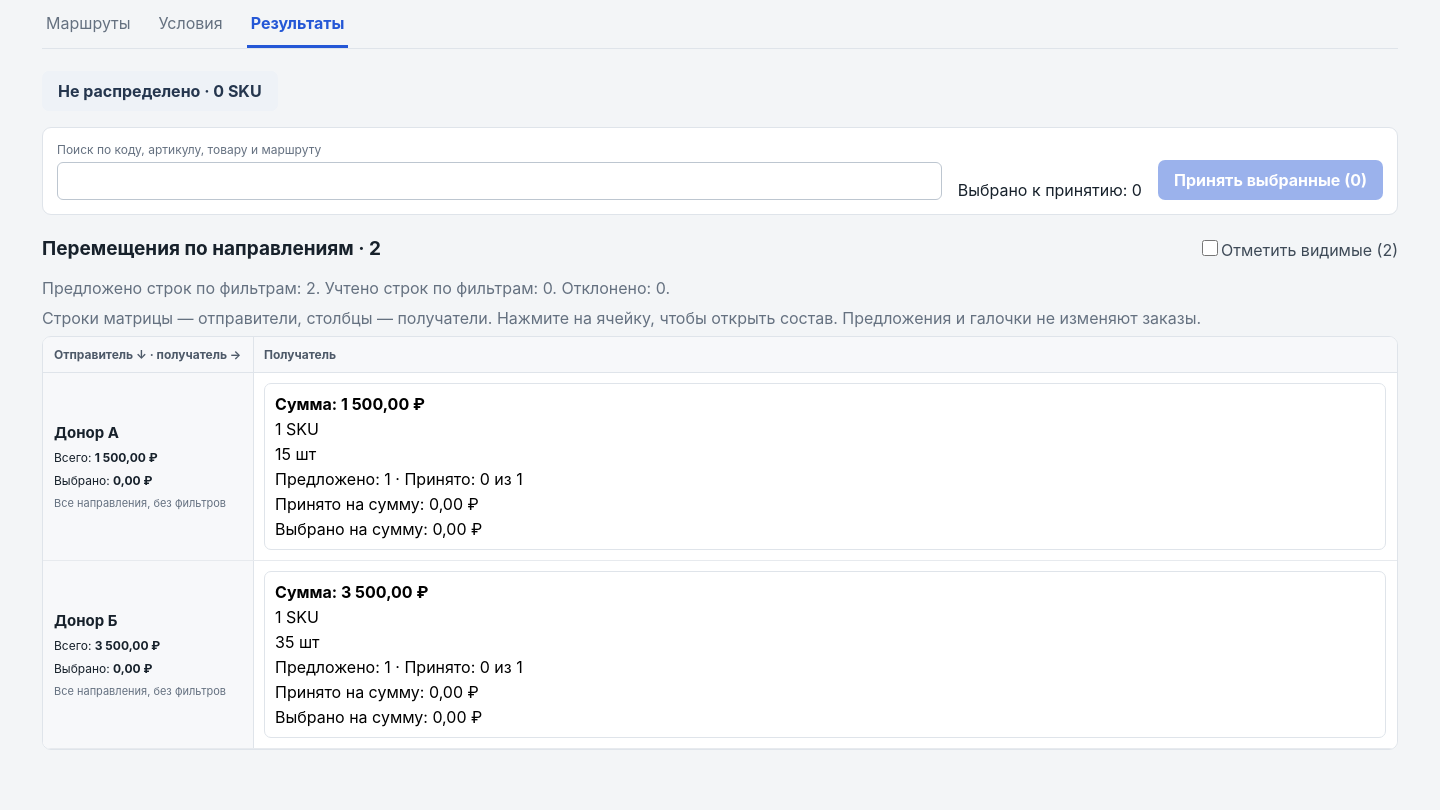
Scenario: shows global and route amounts, keeps selection separate from rejection and updates the accepted amount
The width and height of the screenshot is (1440, 810).
(page scrolled)
Click the button with aria-label "Открыть перемещение Донор А → Получатель".
click(825, 466)  # box [264,383,1386,550]
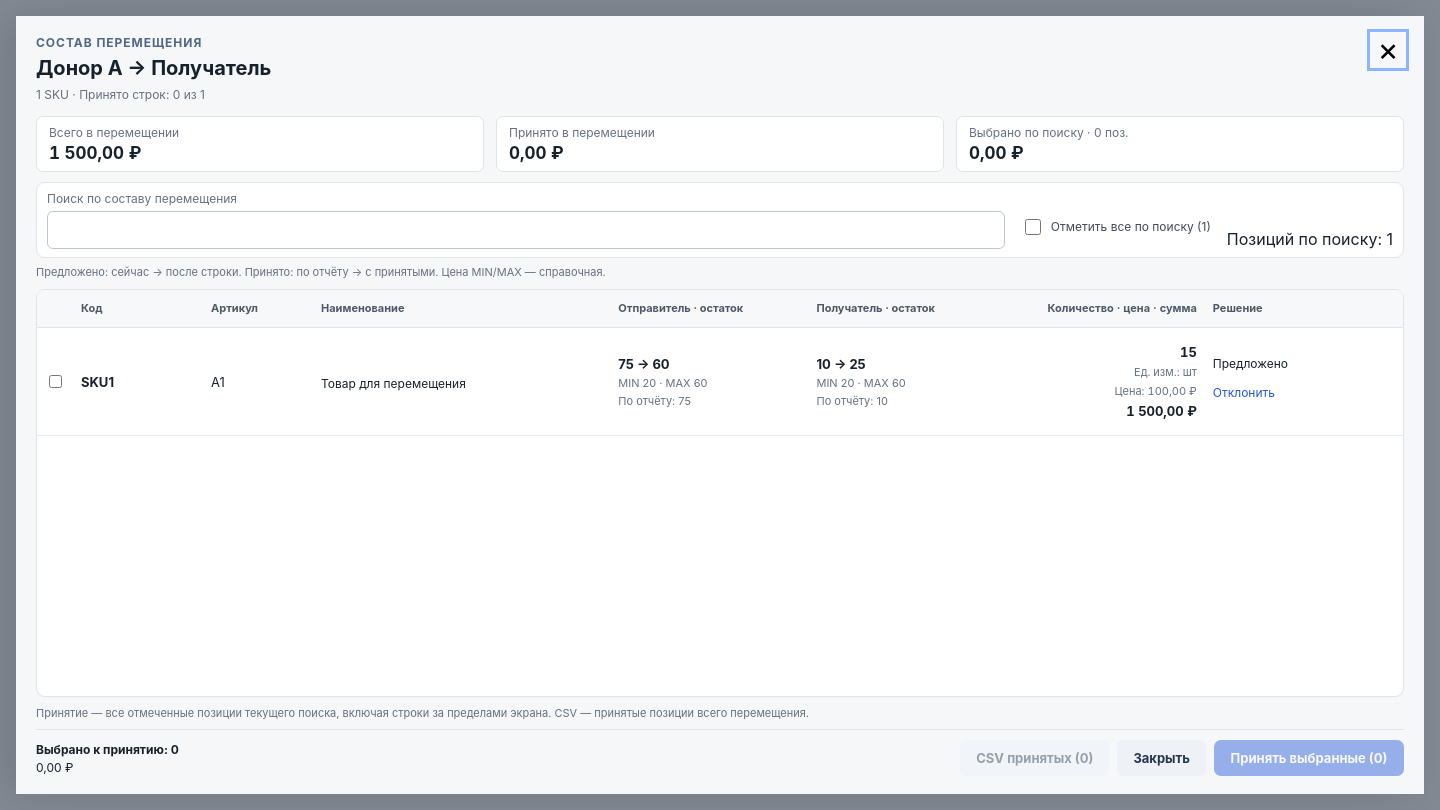
Now the element named "Сумма перемещения" shows "1 500,00", box [49,143,141,163]
Click the checkbox named "Выбрать перемещение SKU1".
click(56, 382)  # box [49,375,62,388]
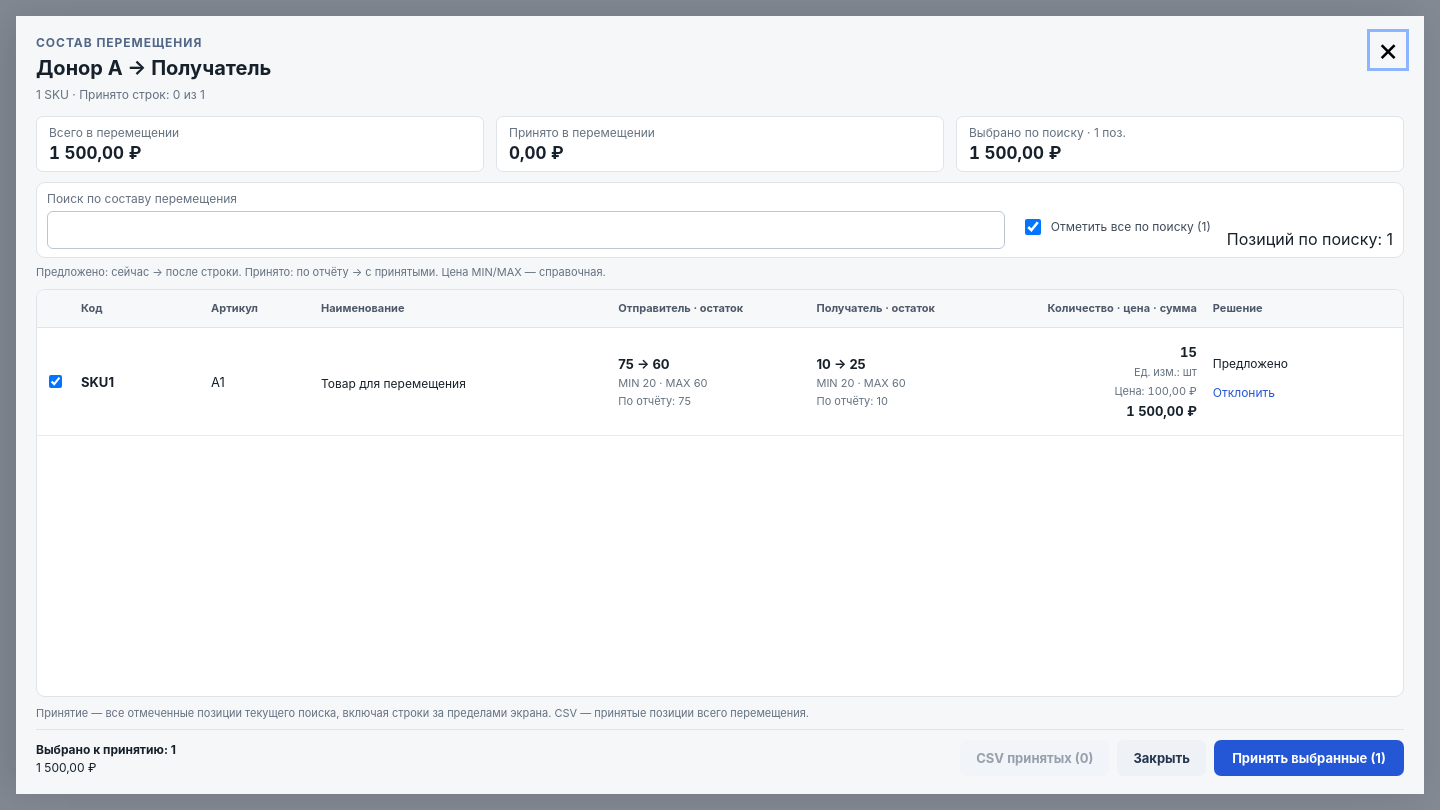
Click the button with aria-label "Принять выбранные в перемещении (1)".
click(1309, 758)  # box [1214,740,1404,776]
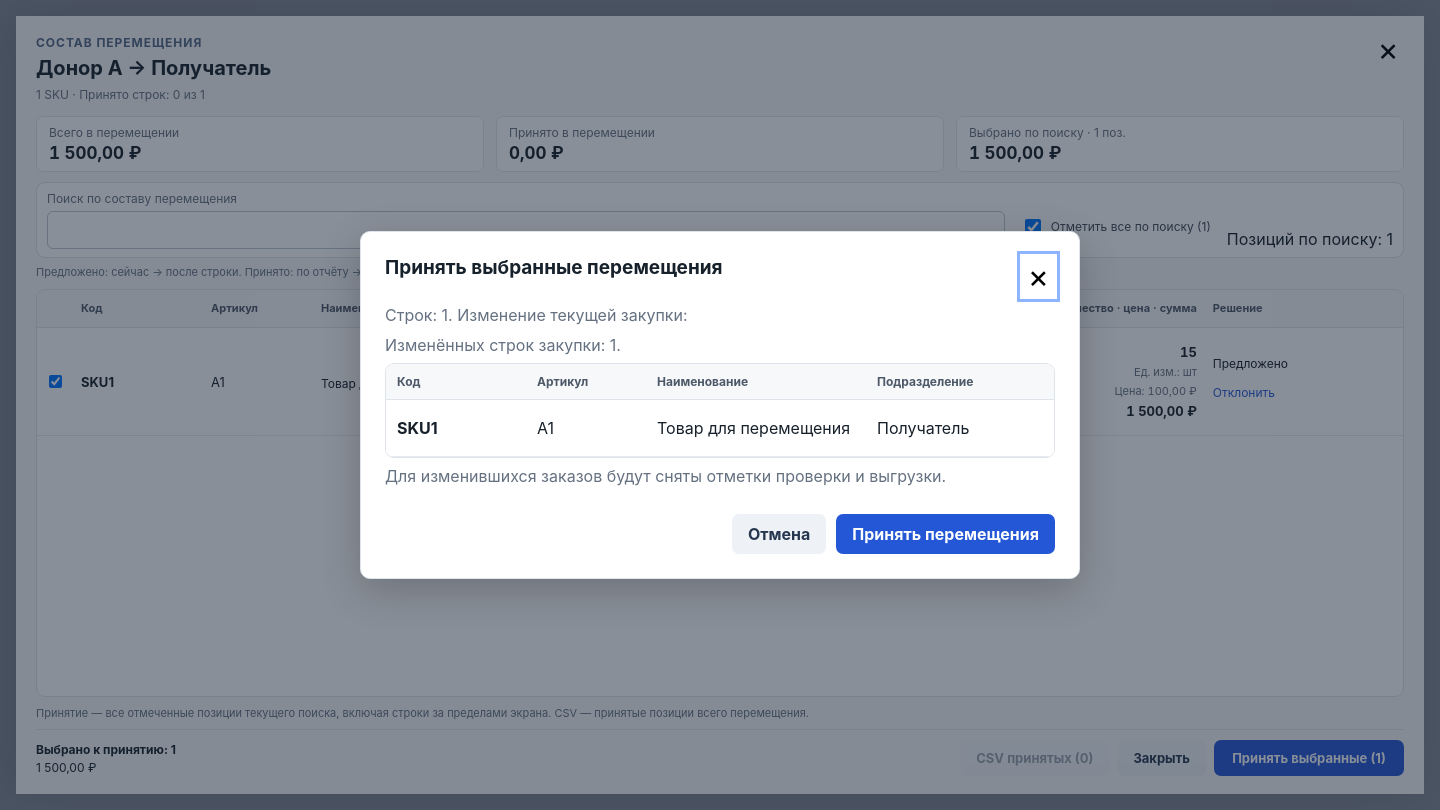
Click the button "Принять перемещения".
click(946, 534)  # box [836,514,1055,554]
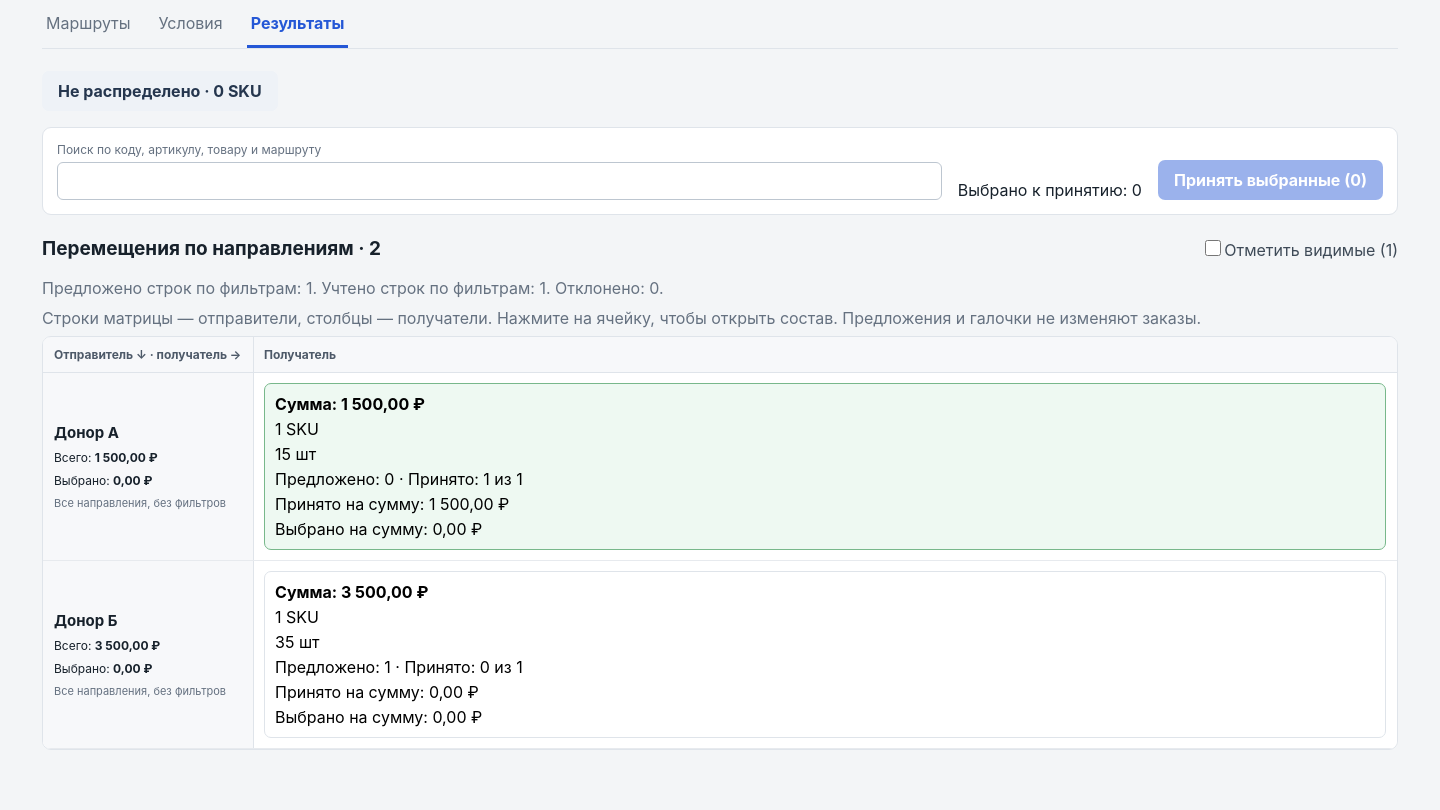
Now the text "Состав перемещения" is gone
Click the button with aria-label "Открыть перемещение Донор А → Получатель".
click(825, 466)  # box [264,383,1386,550]
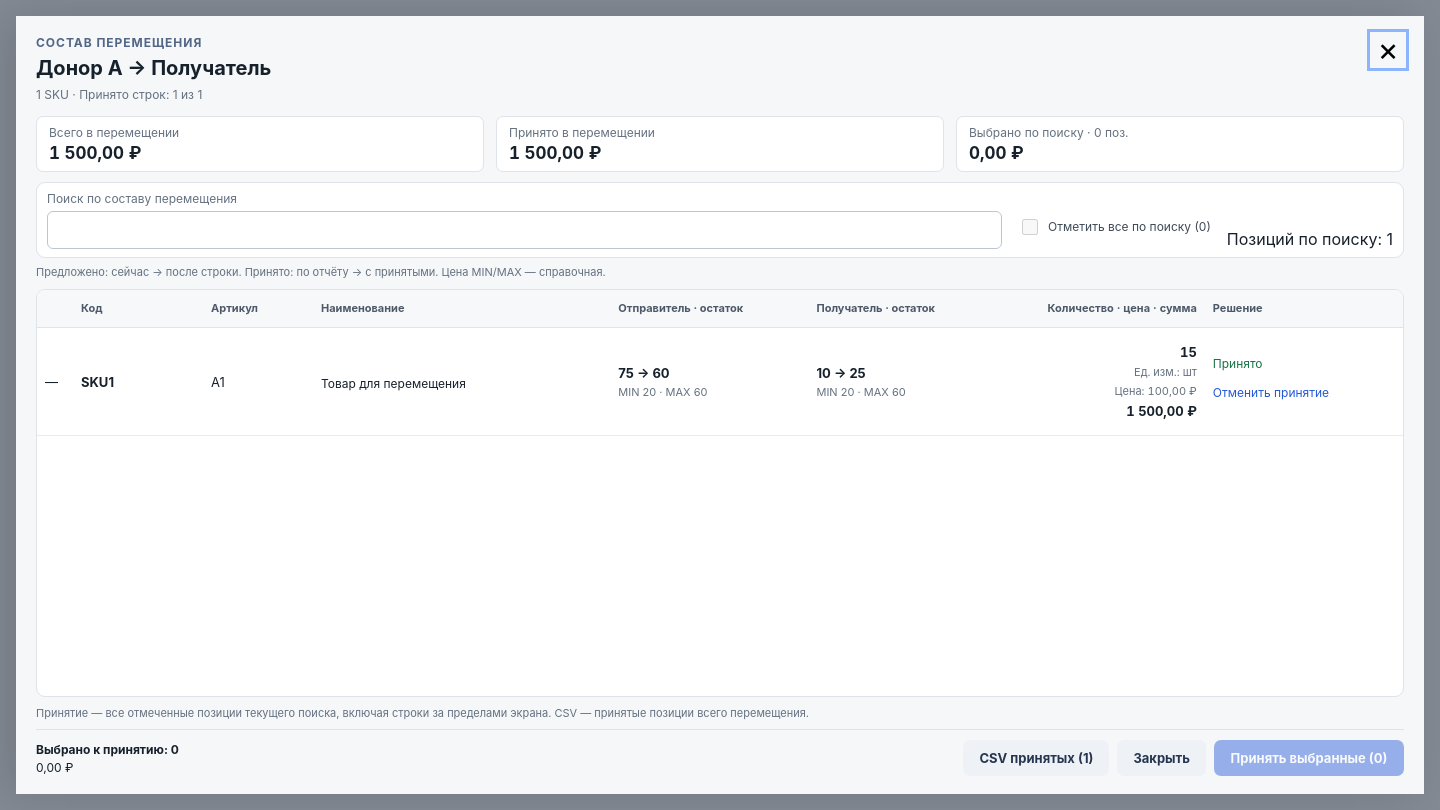
Now the element named "Принято на сумму в перемещении" shows "1 500,00", box [509,143,601,163]
